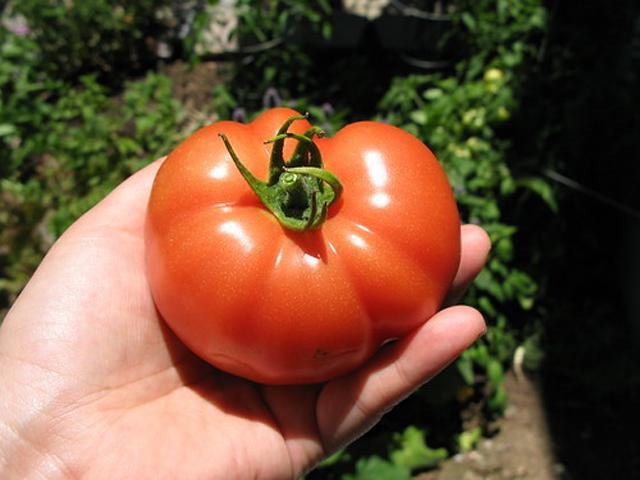tomato: (147, 108, 461, 380)
